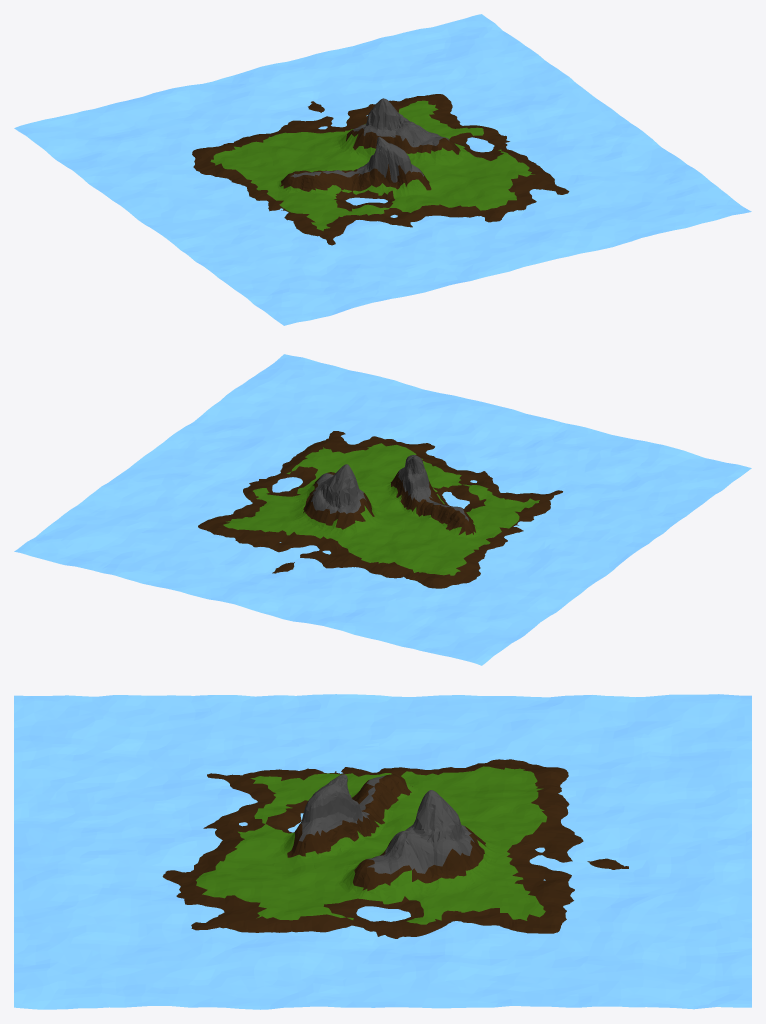
File: LowPolyWorld.fbx
3 renders of one model, top to bottom at view 1: azimuth 30°, elevation 25°; view 2: azimuth 150°, elevation 25°; view 3: azimuth 270°, elevation 25°, orthographic. The views are drawn at different scales.
Parts seen in each view (by area): view 1: Water, Island; view 2: Water, Island; view 3: Water, Island.
Part boxes in pixels (<box>): Water: <box>14,14,751,325</box>; Island: <box>192,94,569,245</box>; Water: <box>14,354,751,665</box>; Island: <box>198,431,562,588</box>; Water: <box>14,694,751,1009</box>; Island: <box>162,759,628,938</box>.
Size of the model in its own units: 180005 by 21984 by 180006.
